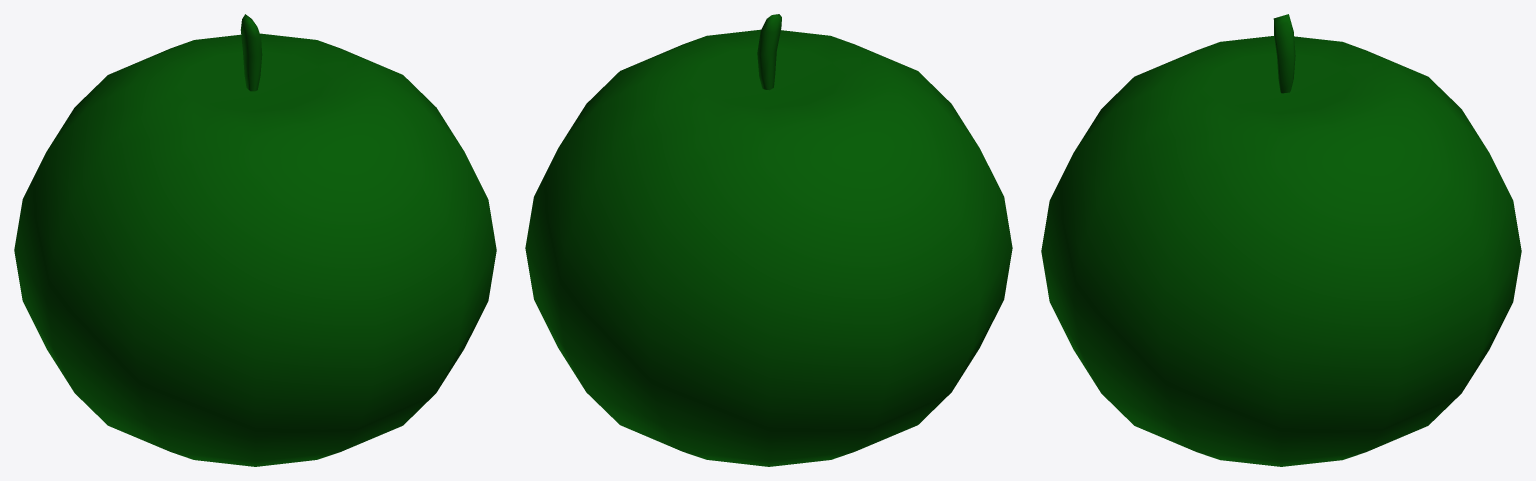
Rendered from fruit01.FBX.
3 views of the same model, side by side, from view 1: azimuth 30°, elevation 25°; view 2: azimuth 150°, elevation 25°; view 3: azimuth 270°, elevation 25° (orthographic).
Visible parts, largest first — view 1: SM_fruit01_0; view 2: SM_fruit01_0; view 3: SM_fruit01_0.
Part boxes in pixels (bbox=[...]): SM_fruit01_0: bbox=[14, 14, 496, 466]; SM_fruit01_0: bbox=[525, 14, 1012, 466]; SM_fruit01_0: bbox=[1041, 14, 1521, 466].
Bounding box in the file's own units: 9.88 × 9.88 × 9.06.
